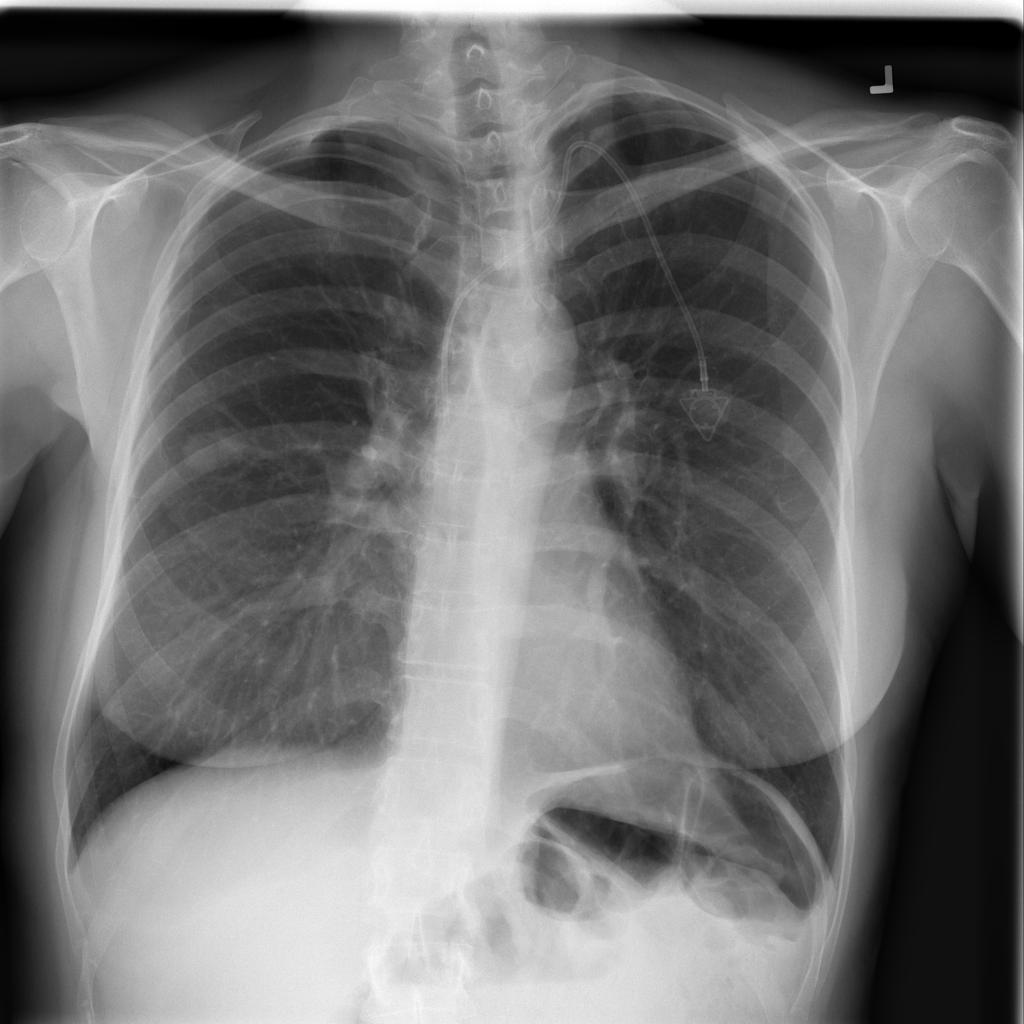nodule: (171, 410, 258, 485)
